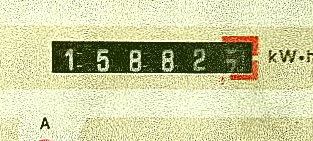1: (62, 42, 76, 72)
2: (189, 45, 207, 72)
5: (93, 45, 111, 75)
7: (222, 55, 236, 72)
8: (125, 45, 142, 74), (158, 45, 175, 73)
screen: (38, 23, 265, 87)
